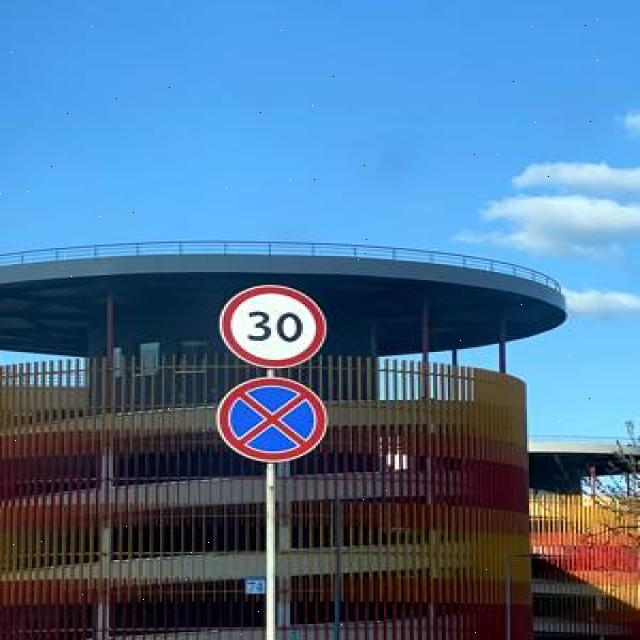speed limit 30: (218, 286, 327, 367)
